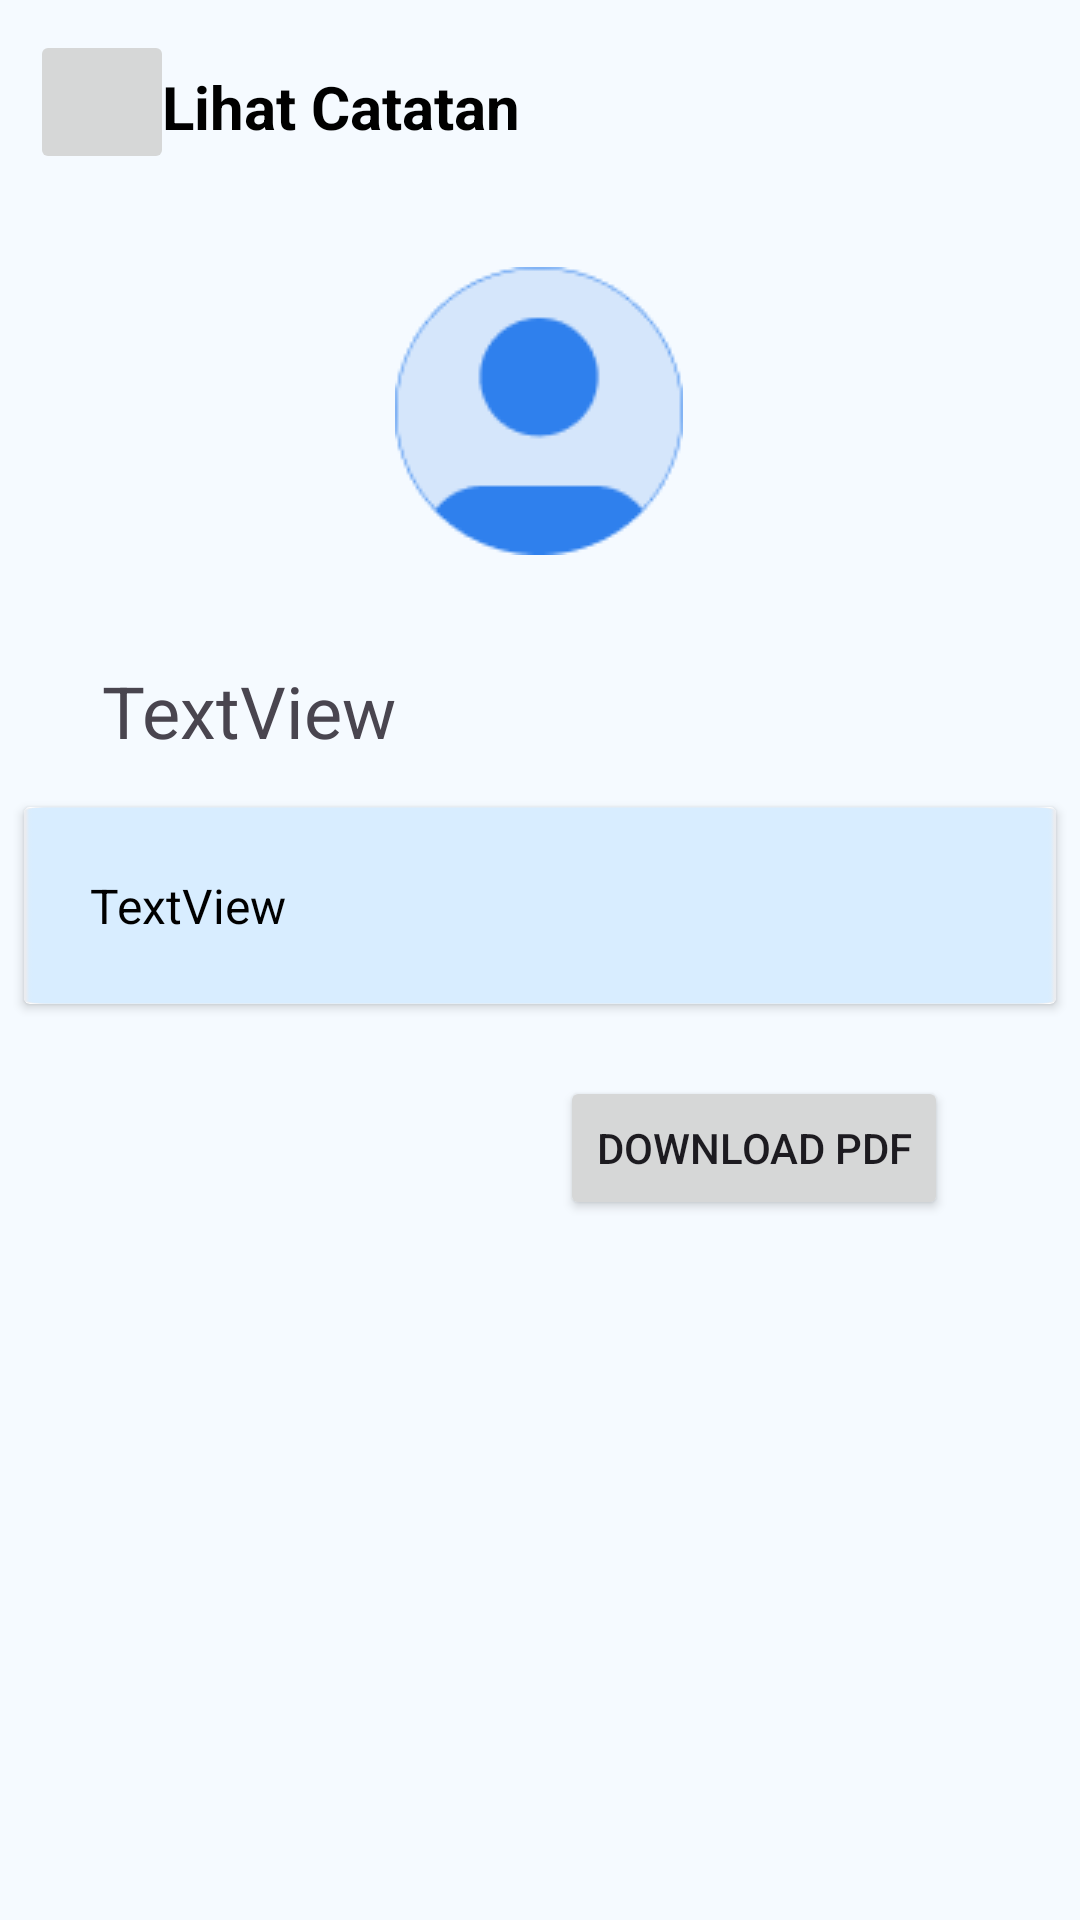

Locate icon controls on the screen. Image size 1080w x 1920h, boxes as [x1=x1, y1=y1, x2=x2, y2=y2].
profile: [x1=395, y1=267, x2=683, y2=555]
